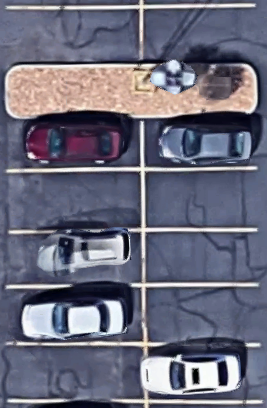Occupied: (6, 286, 145, 343), (6, 231, 143, 285), (5, 118, 143, 170), (145, 344, 261, 403), (141, 118, 257, 168)
Vacant: (5, 170, 143, 231), (6, 7, 141, 67), (6, 344, 146, 401), (142, 168, 258, 230), (144, 285, 259, 345), (141, 6, 256, 65), (143, 230, 258, 285)
